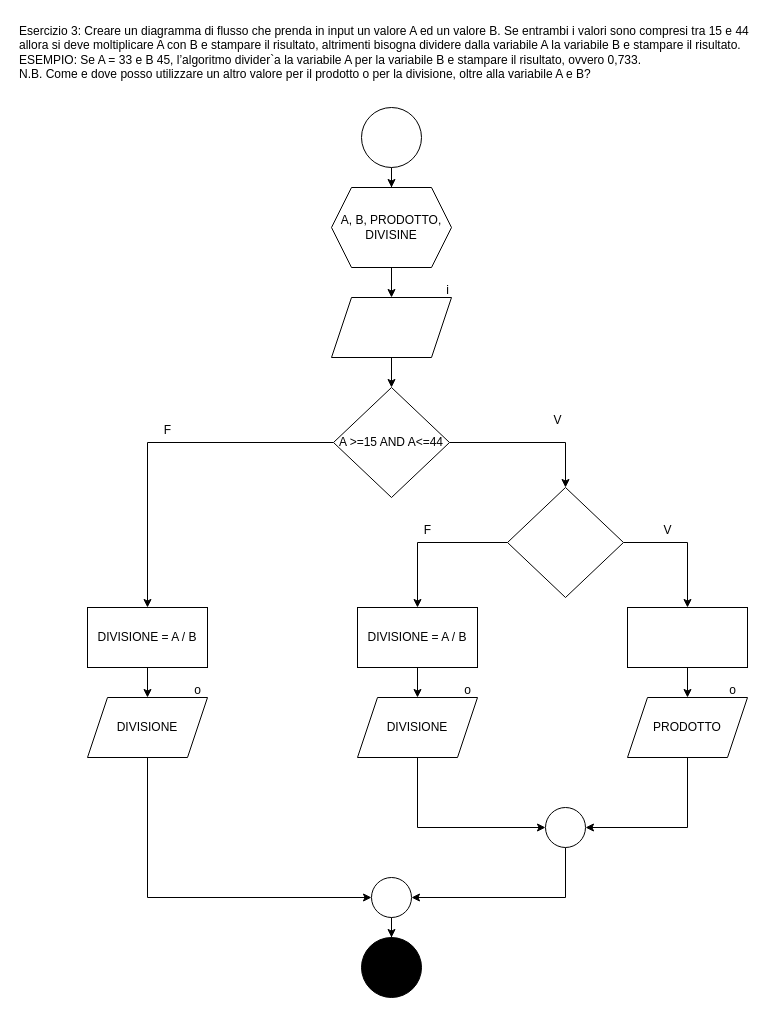
The diagram is 774 pixels wide and 1015 high, and some of its shapes have lost their labels. The box of each missing label's shape, as (x1, y1, x2, y2) in pixels:
A, B: (330, 296, 452, 358)
B >=15 AND B<=44: (506, 486, 624, 598)
PRODOTTO = A * B: (626, 606, 748, 668)
